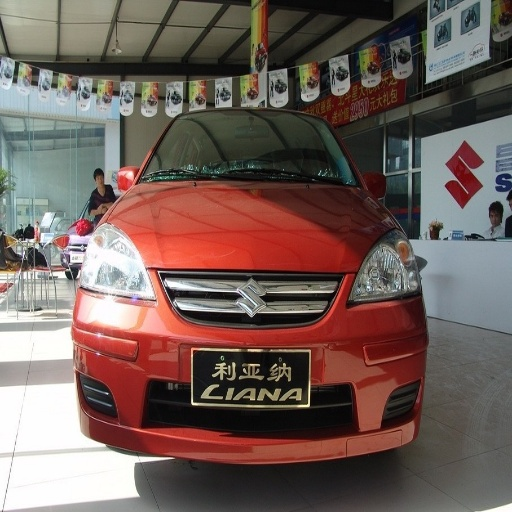front_bumper: (77, 268, 420, 463)
front_right_light: (71, 221, 156, 302)
